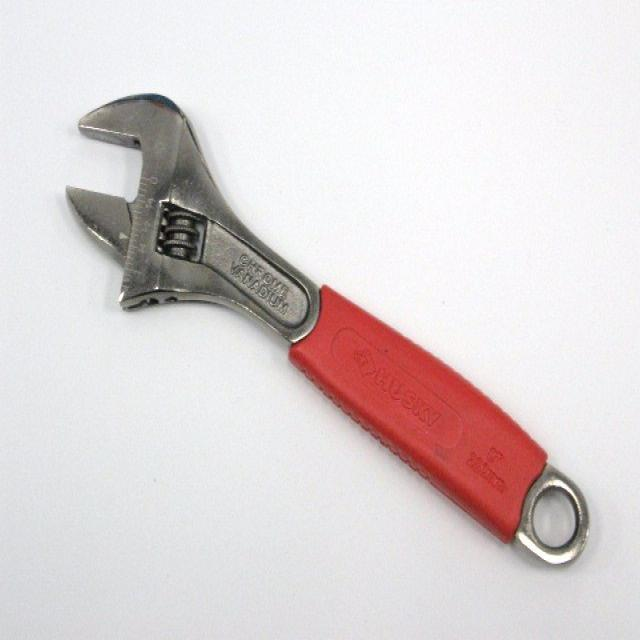wrench: (57, 88, 596, 582)
